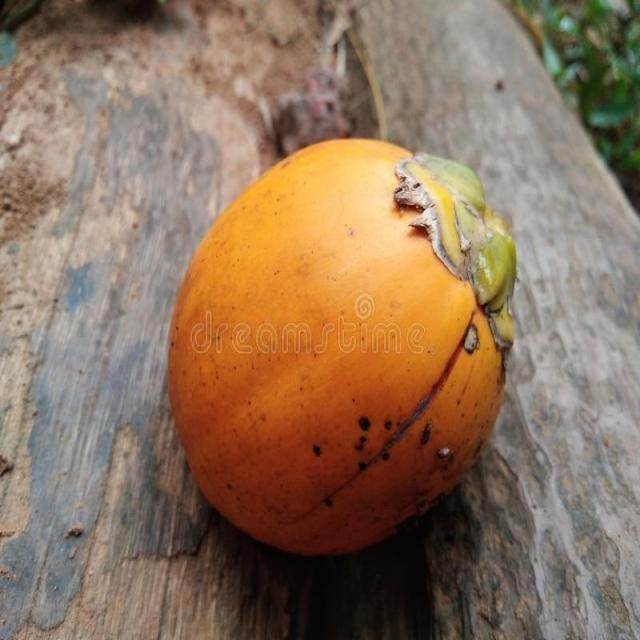good: (166, 140, 517, 561)
